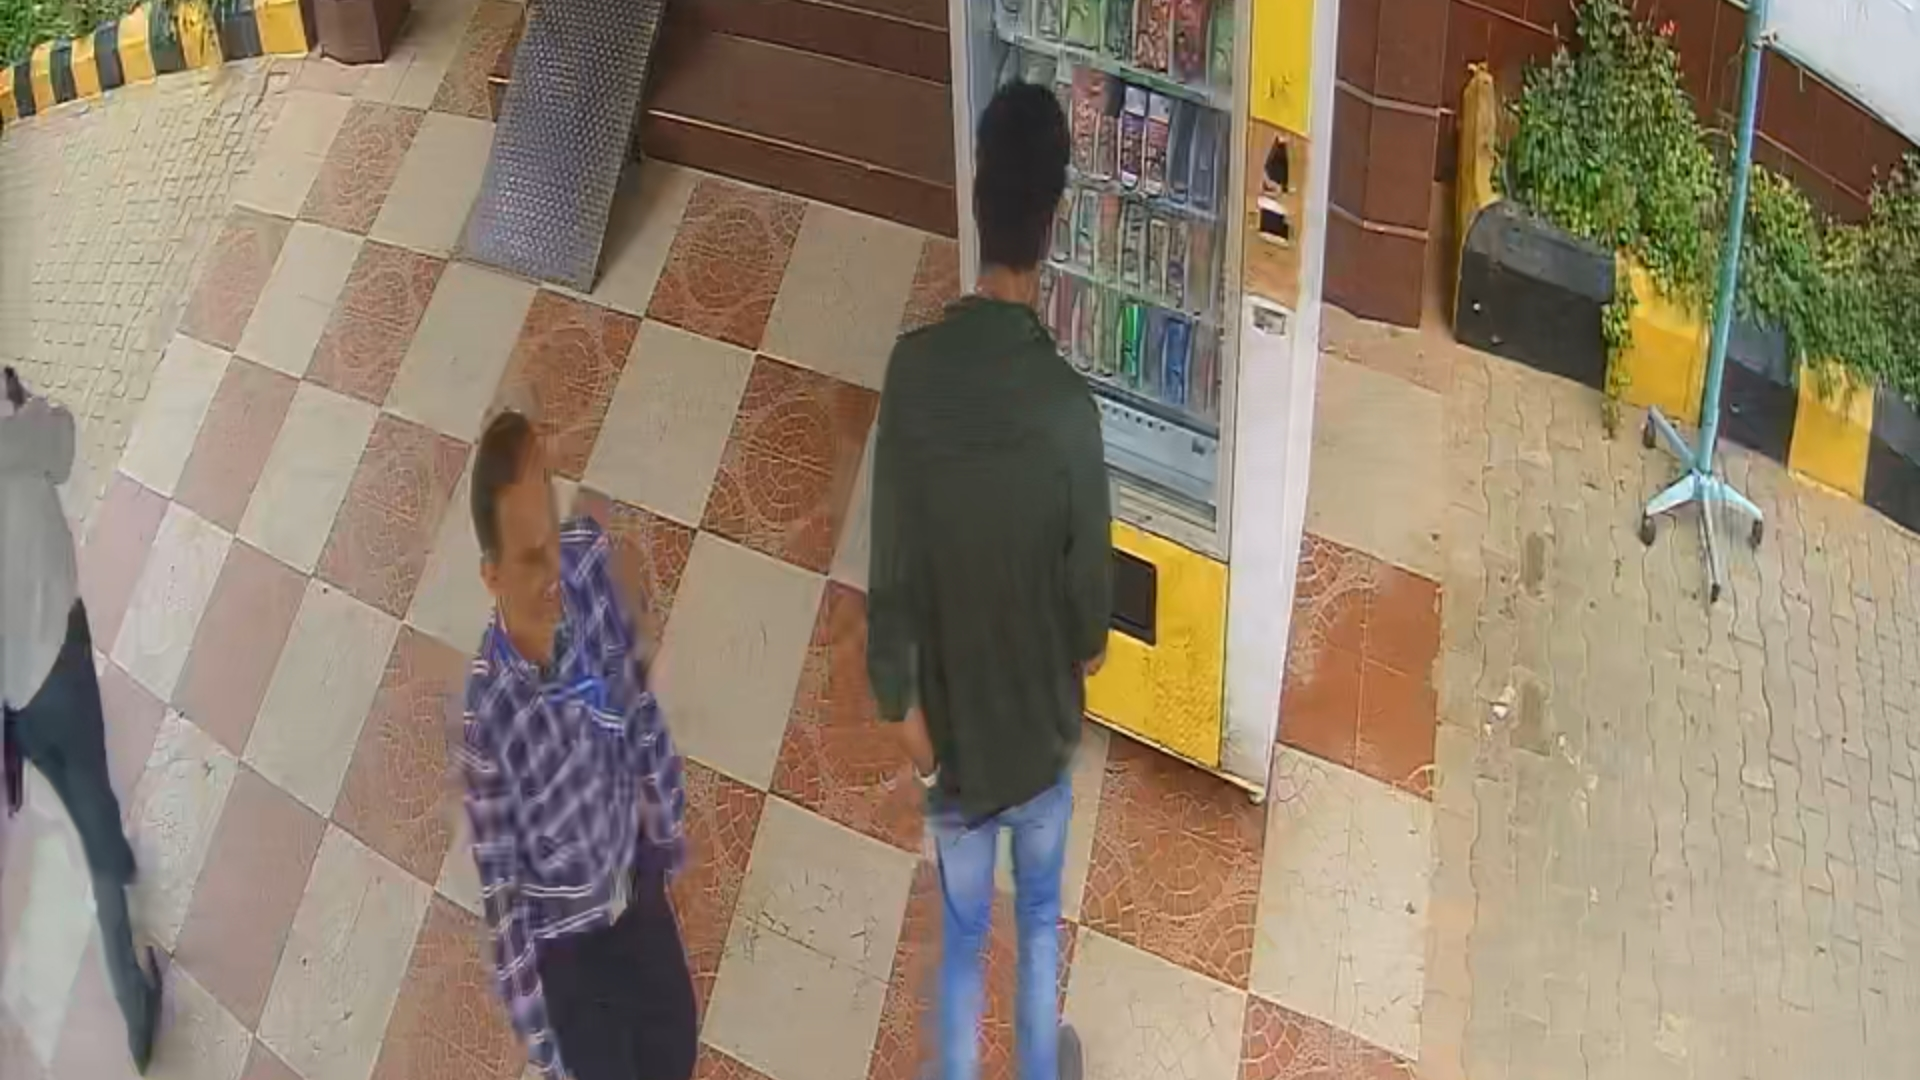intruder: (435, 400, 719, 1072)
